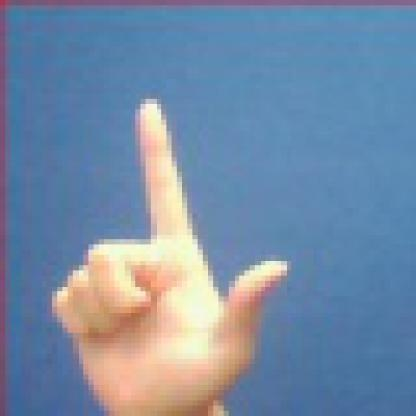seven: (36, 91, 310, 415)
